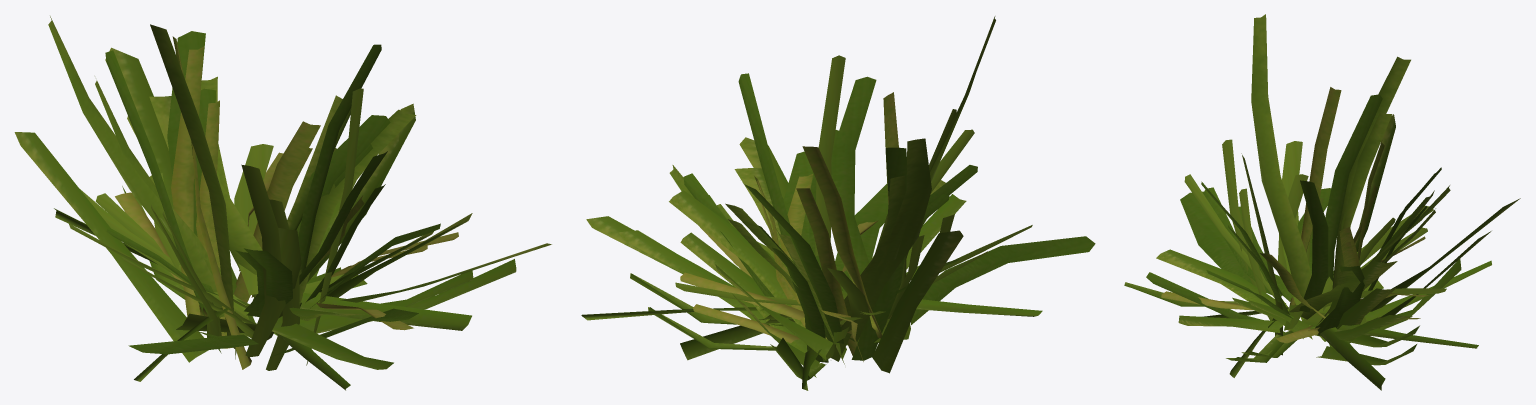
Rendered from clump_001.gltf.
The picture shows the model from 3 angles, left to right: view 1: azimuth 30°, elevation 25°; view 2: azimuth 150°, elevation 25°; view 3: azimuth 270°, elevation 25°; orthographic projection. The views are drawn at different scales.
Parts seen in each view (by area): view 1: clump.001; view 2: clump.001; view 3: clump.001.
Part boxes in pixels (x1,y1,x2,y2): clump.001: (14, 16, 551, 390); clump.001: (581, 16, 1095, 390); clump.001: (1124, 14, 1520, 390).
Size of the model in its own units: 0.2497 by 0.2193 by 0.2788.
Materials: 1 (1 with a texture image).
